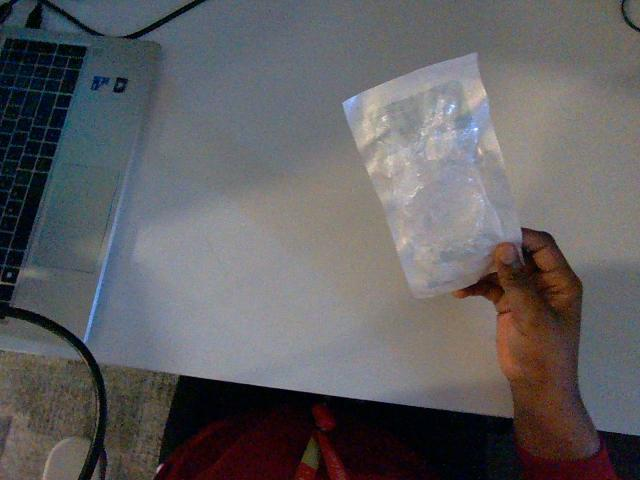gallipot: (343, 54, 520, 296)
